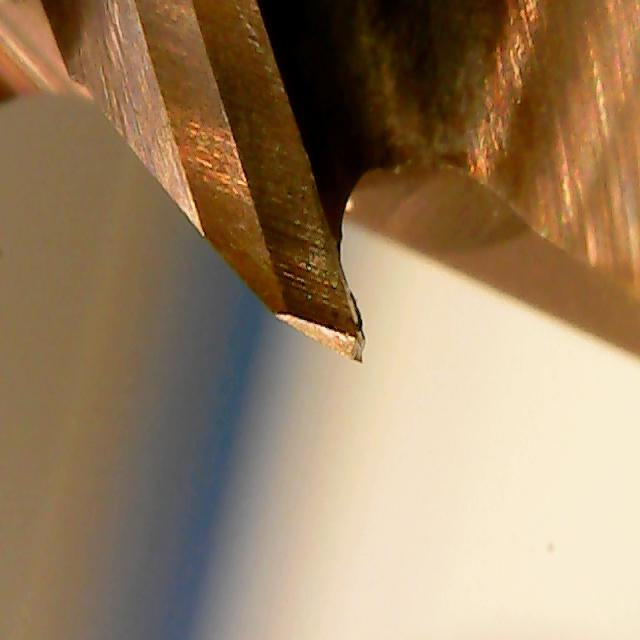Tool-wear-class-1: (214, 93, 380, 385)
